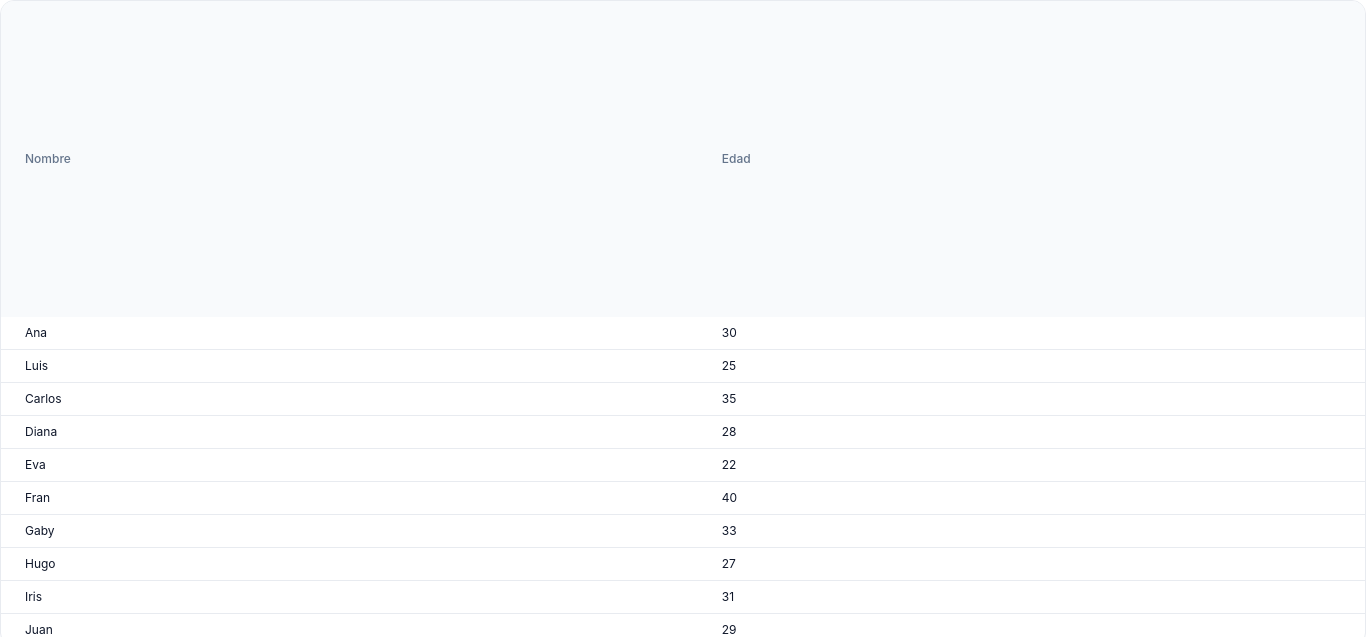
Test: TableComponent › sorts ascending on column click
Click the column heading "Edad".
click(1031, 159)  # box [698,1,1365,317]
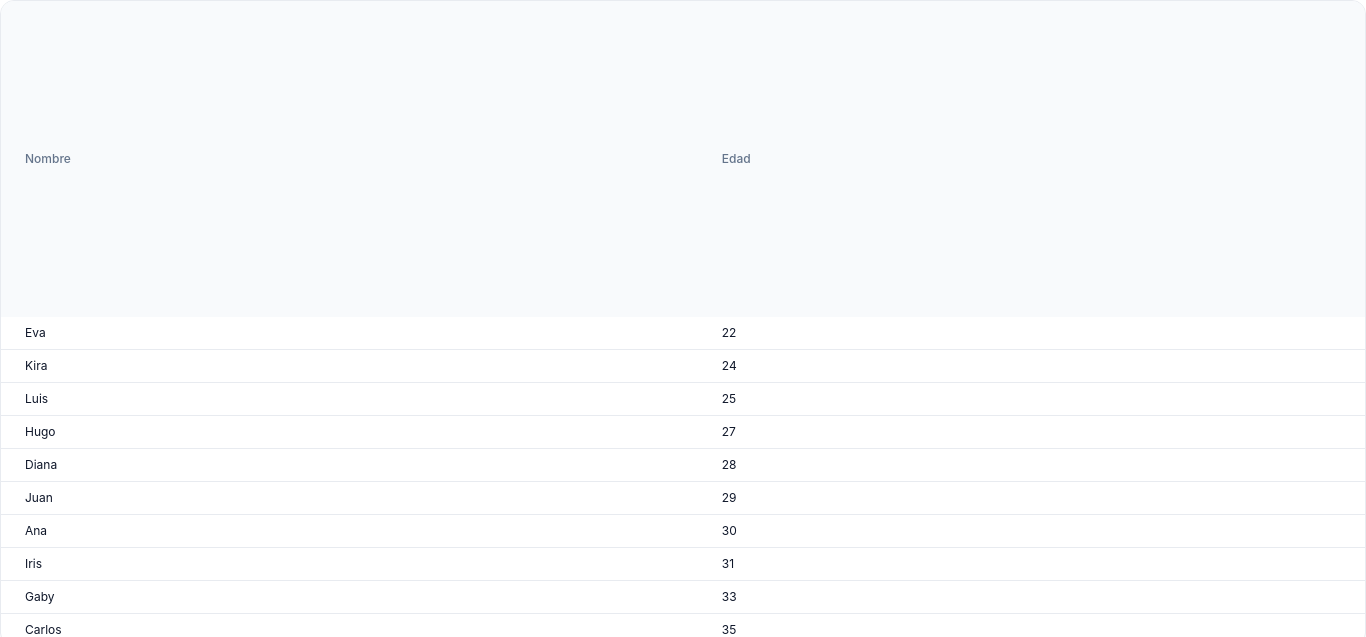
Result: the cell "Eva" is shown at [1,317,698,350]
